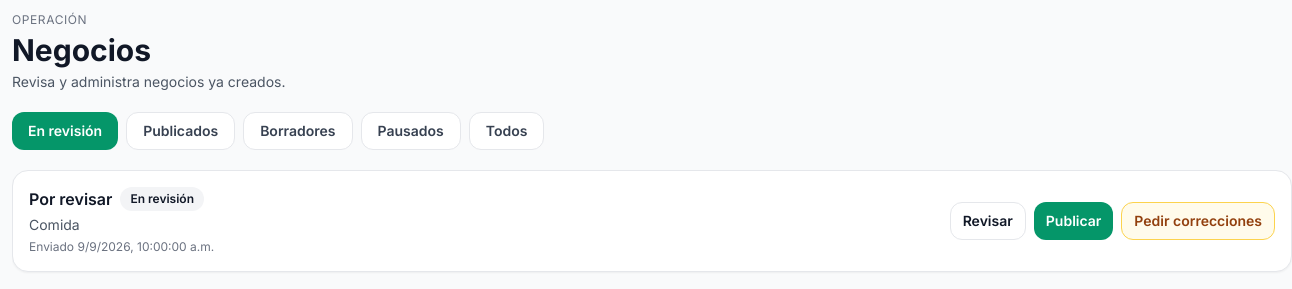
Test: R5E-A admin operational boundaries › keeps drafts visible through their canonical filter
Click the tab "Borradores" at (298, 131), box [243, 112, 352, 150]
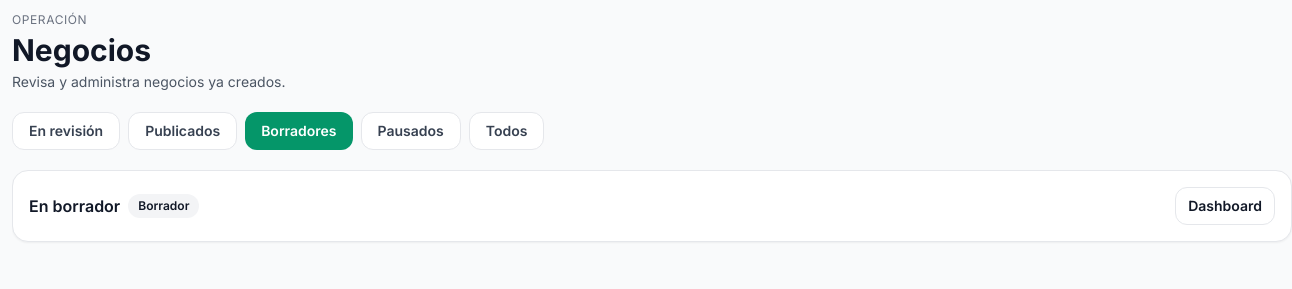
Result: the heading "En borrador" is shown at [29, 194, 120, 218]
Result: the text "Borrador" is shown at [128, 194, 199, 218]
